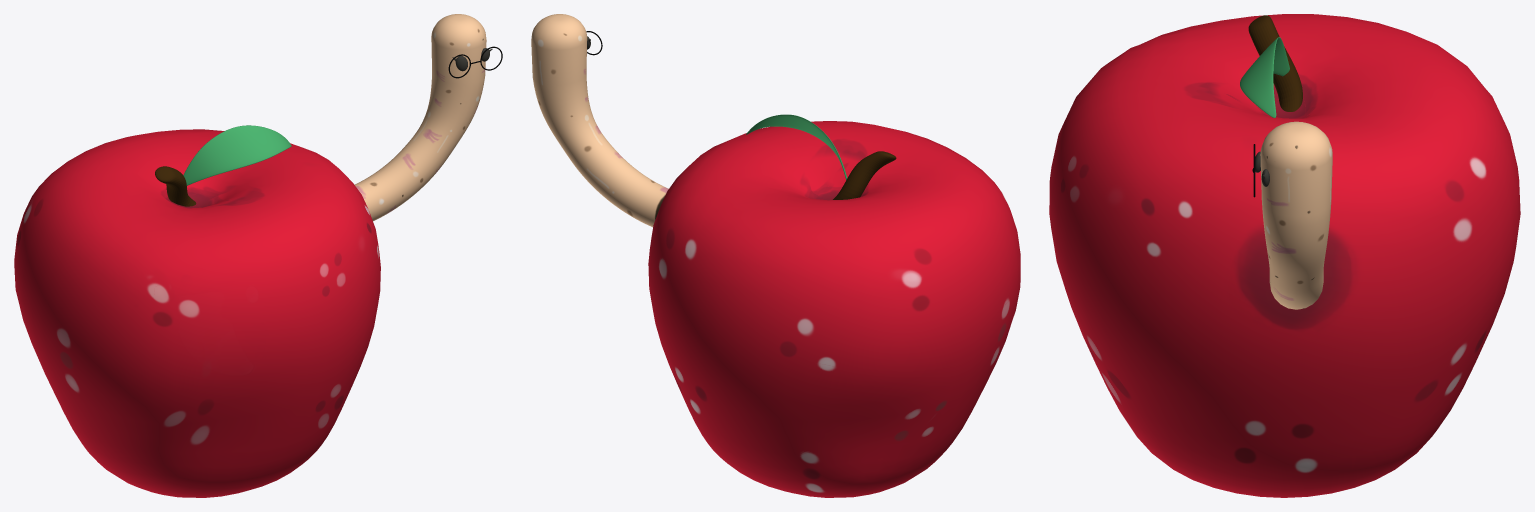
The model's file is apple_with_worm.fbx.
The picture shows the model from 3 angles, left to right: view 1: azimuth 30°, elevation 25°; view 2: azimuth 150°, elevation 25°; view 3: azimuth 270°, elevation 25°; orthographic projection. The views are drawn at different scales.
Parts seen in each view (by area): view 1: Cube, NurbsPath, Plane, Cube.001; view 2: Cube, NurbsPath, Cube.001, Plane; view 3: Cube, NurbsPath, Plane, Cube.001.
Part boxes in pixels (box(x1,y1,x2,y2)): Cube: box(14, 129, 380, 497); NurbsPath: box(354, 14, 486, 221); Plane: box(183, 125, 291, 185); Cube.001: box(155, 166, 196, 206); Cube: box(648, 121, 1020, 497); NurbsPath: box(531, 14, 668, 227); Cube.001: box(833, 151, 896, 199); Plane: box(746, 114, 847, 179); Cube: box(1049, 14, 1520, 497); NurbsPath: box(1260, 121, 1332, 309); Plane: box(1240, 37, 1289, 117); Cube.001: box(1248, 15, 1302, 111).
Bounding box in the file's own units: 544 × 455 × 380.
7 materials, 2 textured.
